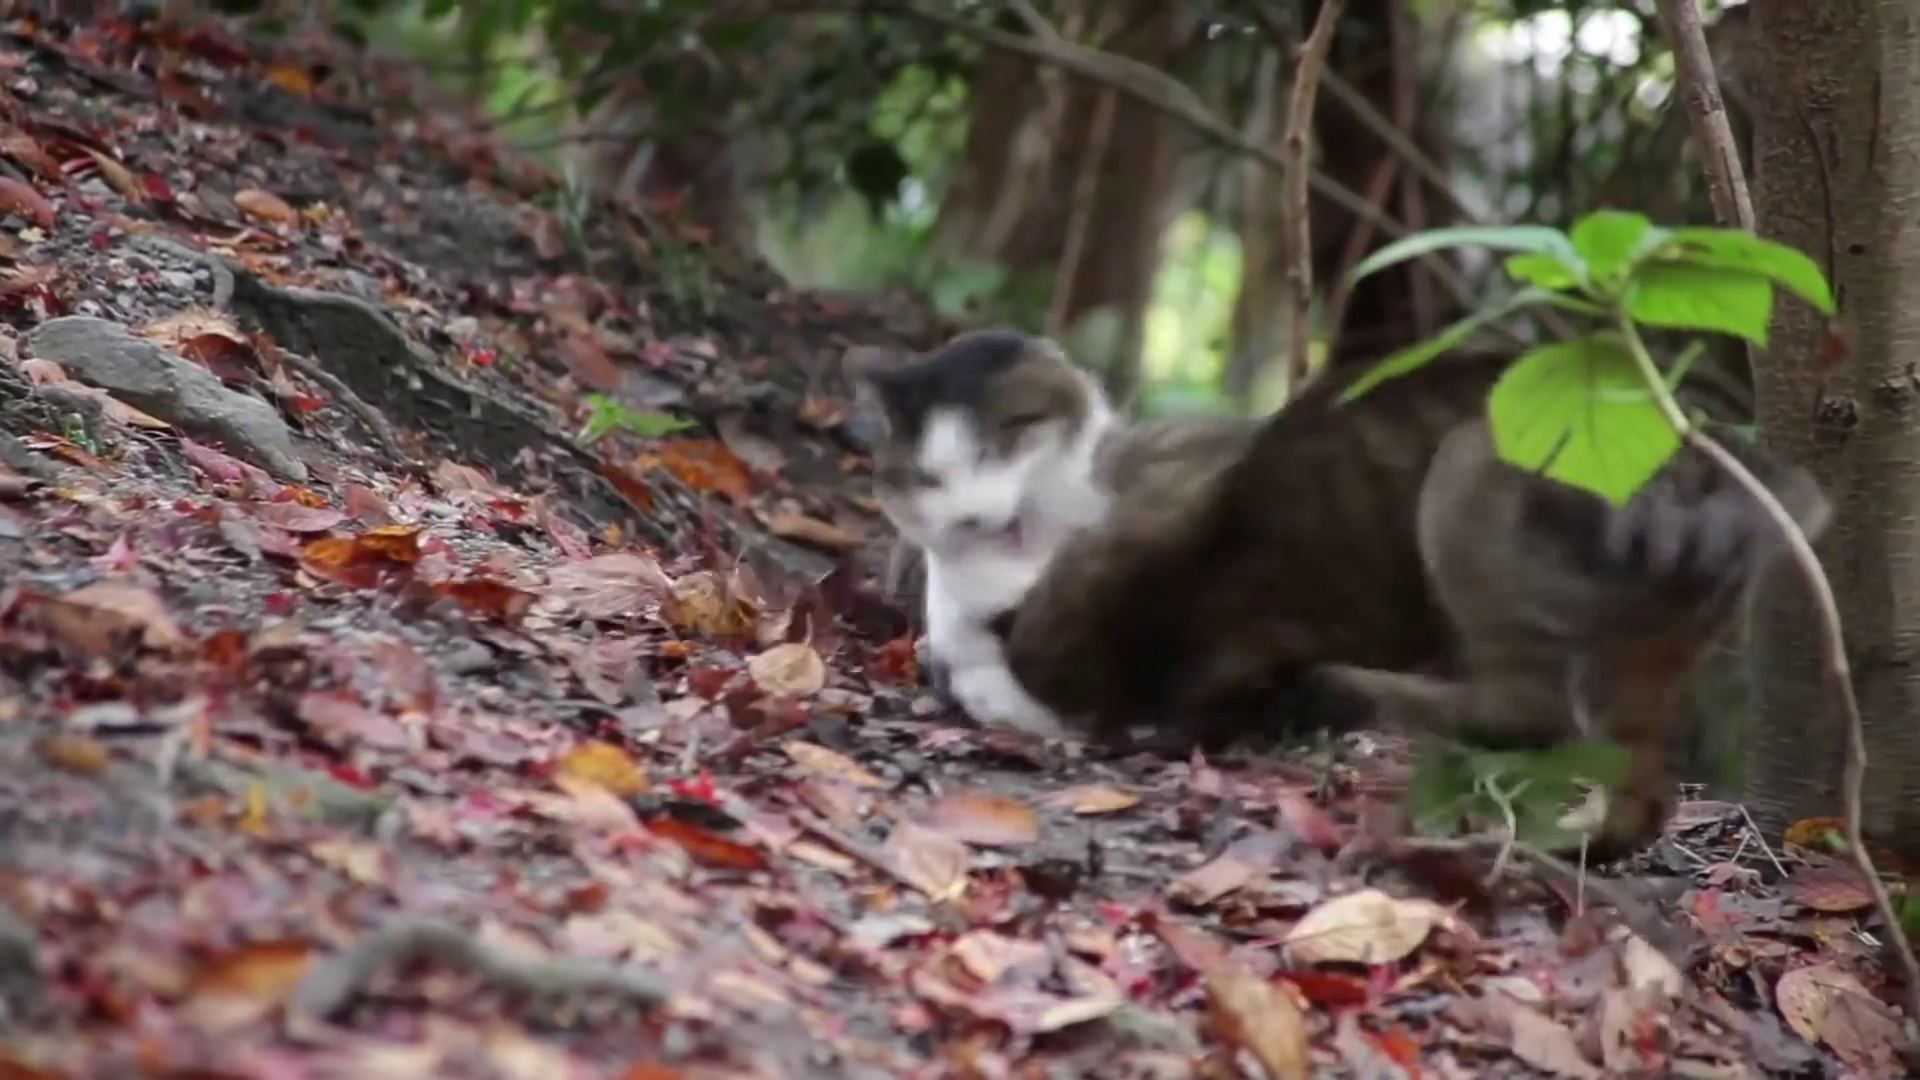black-white: (862, 328, 1122, 740)
pure black: (1007, 353, 1753, 754)
